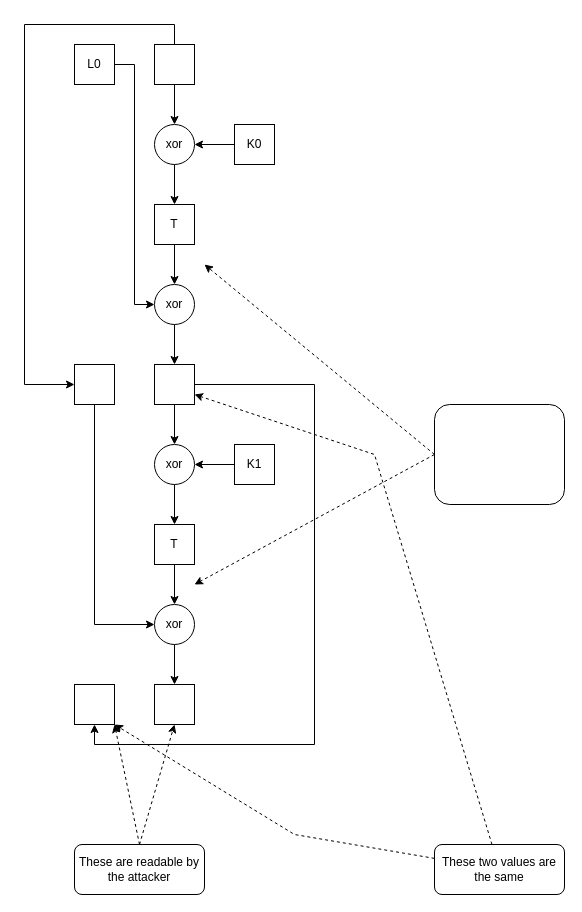
Image size: 582x912. Some labels were removed from this diagram. Each missing label, with the box of its shape:
Accessed cache lines can be used to identify which elsments of T have been read: (434, 404, 564, 504)
L1: (74, 364, 114, 404)
L2: (74, 684, 114, 724)
R0: (154, 44, 194, 84)
R1: (154, 364, 194, 404)
R2: (154, 684, 194, 724)
